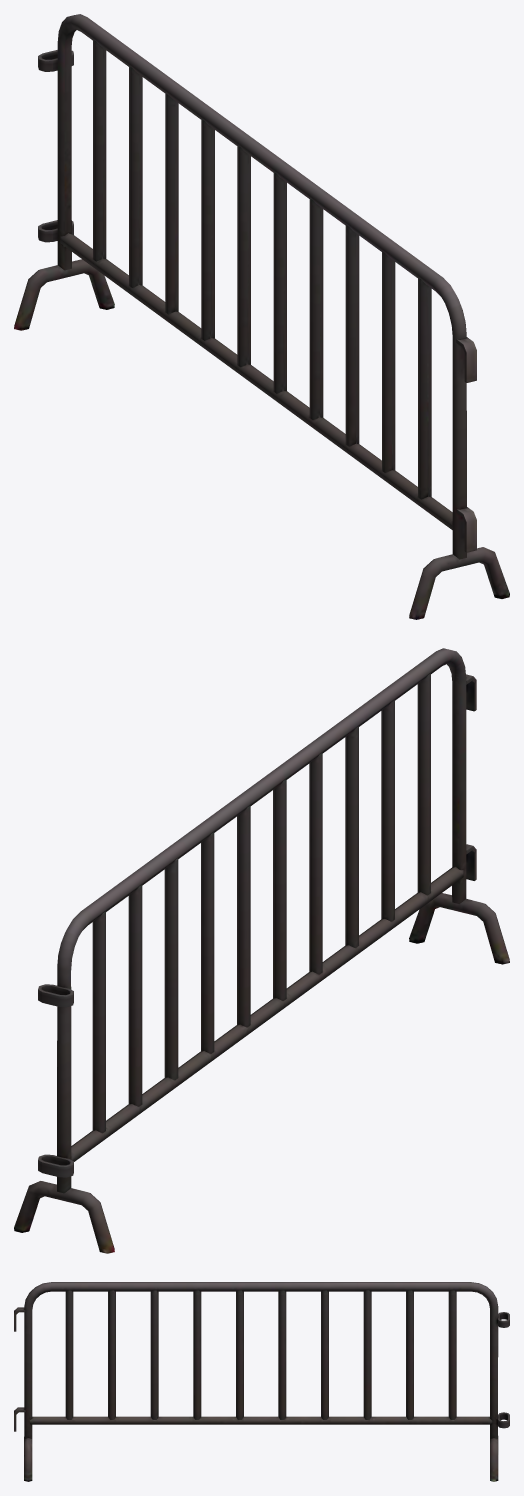
3 views of the same model, one above another, from view 1: azimuth 30°, elevation 25°; view 2: azimuth 150°, elevation 25°; view 3: azimuth 270°, elevation 25° (orthographic). The views are drawn at different scales.
Parts seen in each view (by area): view 1: body0_model0_lod0_mesh0; view 2: body0_model0_lod0_mesh0; view 3: body0_model0_lod0_mesh0.
Boxes of the visible parts, x1,y1,x2,y2 form: body0_model0_lod0_mesh0: (14,14,509,619); body0_model0_lod0_mesh0: (14,648,509,1253); body0_model0_lod0_mesh0: (14,1282,509,1481).
Bounding box in the file's own units: 15.81 × 46.87 × 114.
Materials: 1 (1 with a texture image).
